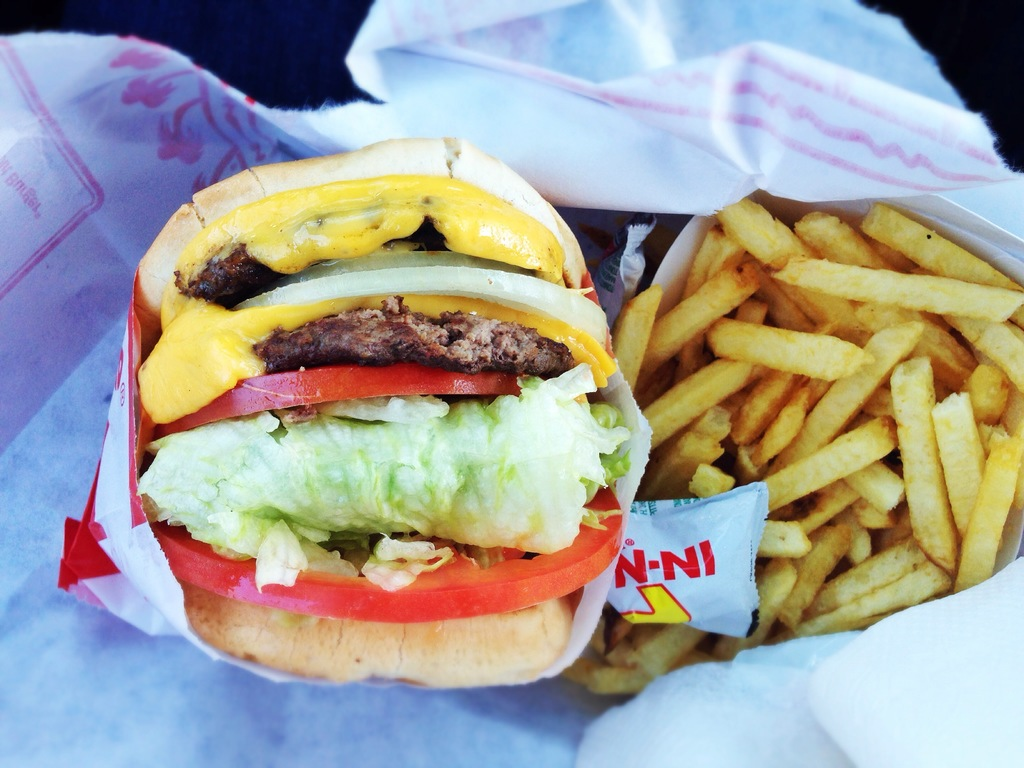French fries: (556, 197, 1023, 698)
